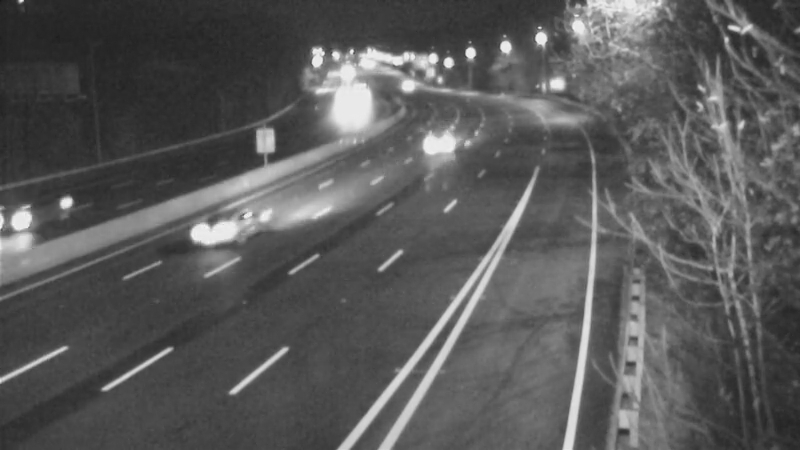vehicle: (185, 184, 265, 264), (1, 173, 68, 253), (376, 56, 426, 106), (417, 116, 467, 166), (320, 88, 370, 138)
